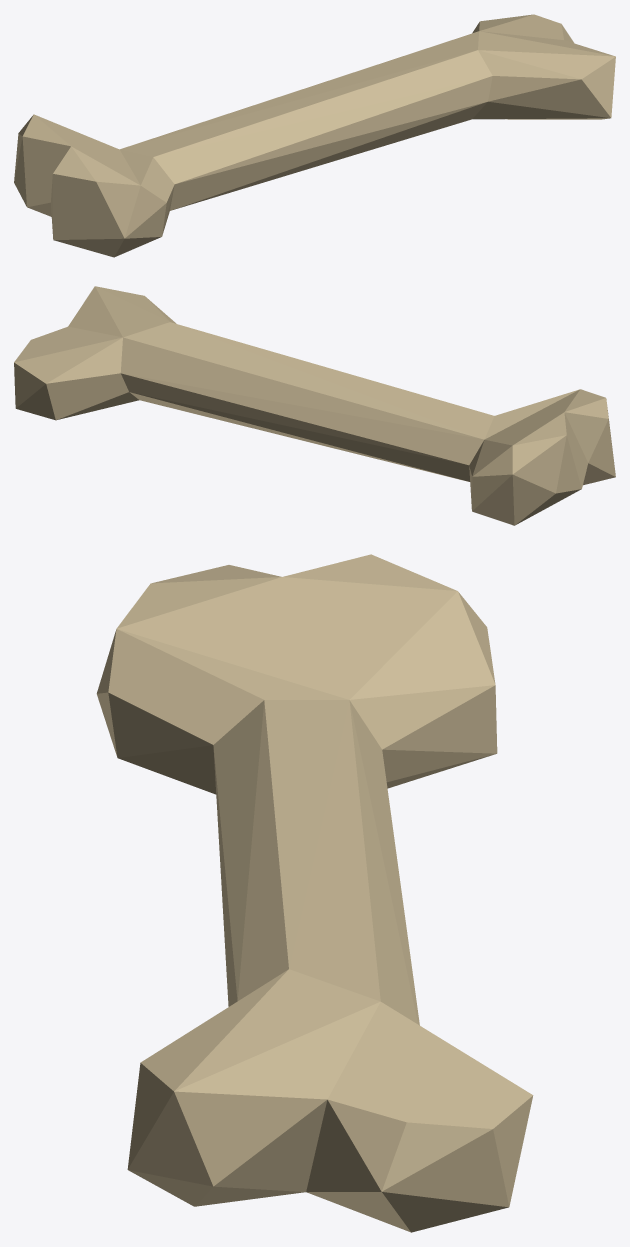
Rendered from Bone.fbx.
3 renders of one model, top to bottom at view 1: azimuth 30°, elevation 25°; view 2: azimuth 150°, elevation 25°; view 3: azimuth 270°, elevation 25°, orthographic. The views are drawn at different scales.
Parts seen in each view (by area): view 1: Bone; view 2: Bone; view 3: Bone.
Part boxes in pixels (left/top/right/bottom): Bone: left=14, top=14, right=615, bottom=257; Bone: left=14, top=286, right=615, bottom=525; Bone: left=96, top=554, right=533, bottom=1232.
Bounding box in the file's own units: 135 × 20.39 × 46.22.
